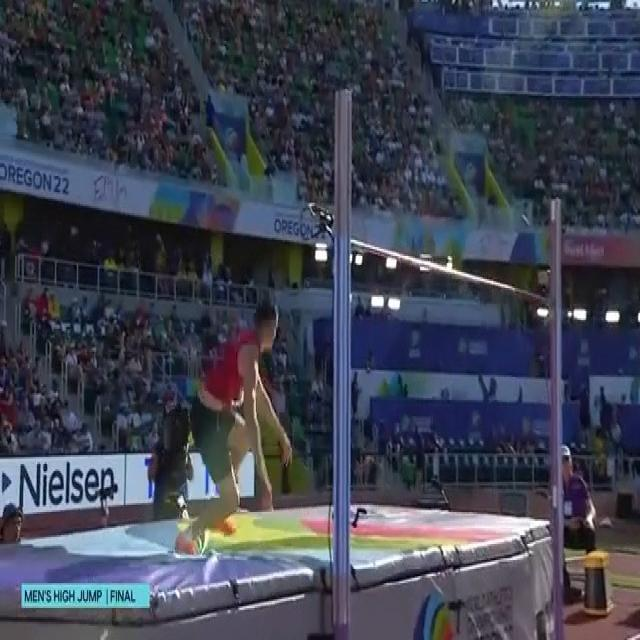land: (173, 284, 297, 560)
